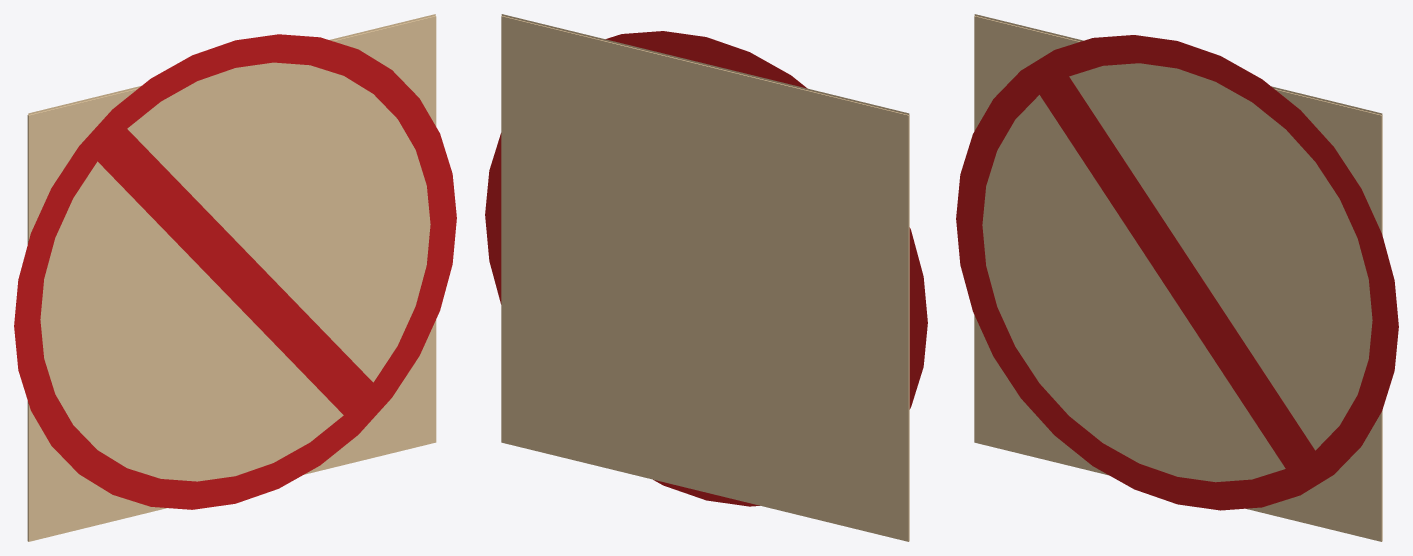
The model's file is errhead.glb.
3 renders of one model, left to right at view 1: azimuth 30°, elevation 25°; view 2: azimuth 150°, elevation 25°; view 3: azimuth 330°, elevation 25°, orthographic.
Visible parts, largest first — view 1: Cube, Circle; view 2: Cube, Circle; view 3: Cube, Circle.
Part boxes in pixels (x1,y1,x2,y2): Cube: [27, 14, 436, 541]; Circle: [14, 34, 456, 509]; Cube: [501, 14, 909, 541]; Circle: [485, 31, 927, 506]; Cube: [974, 14, 1382, 541]; Circle: [956, 35, 1398, 510].
Size of the model in its own units: 69.8 by 69.8 by 0.7541.
